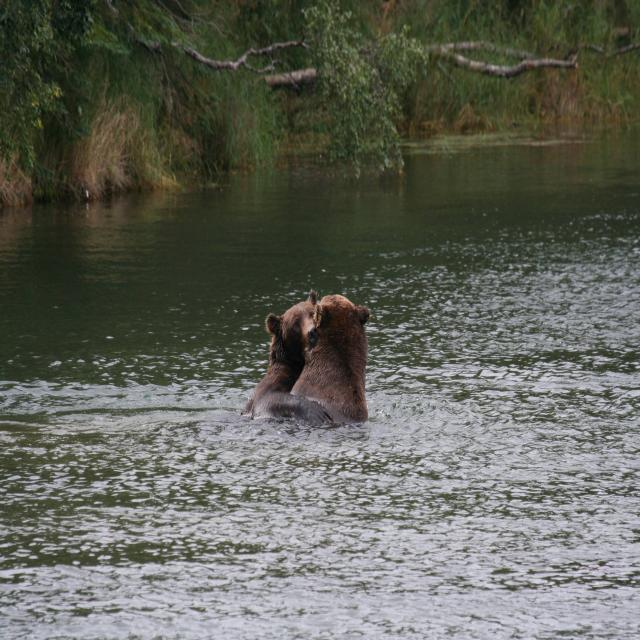bear face: (242, 287, 320, 413), (312, 295, 371, 422)
